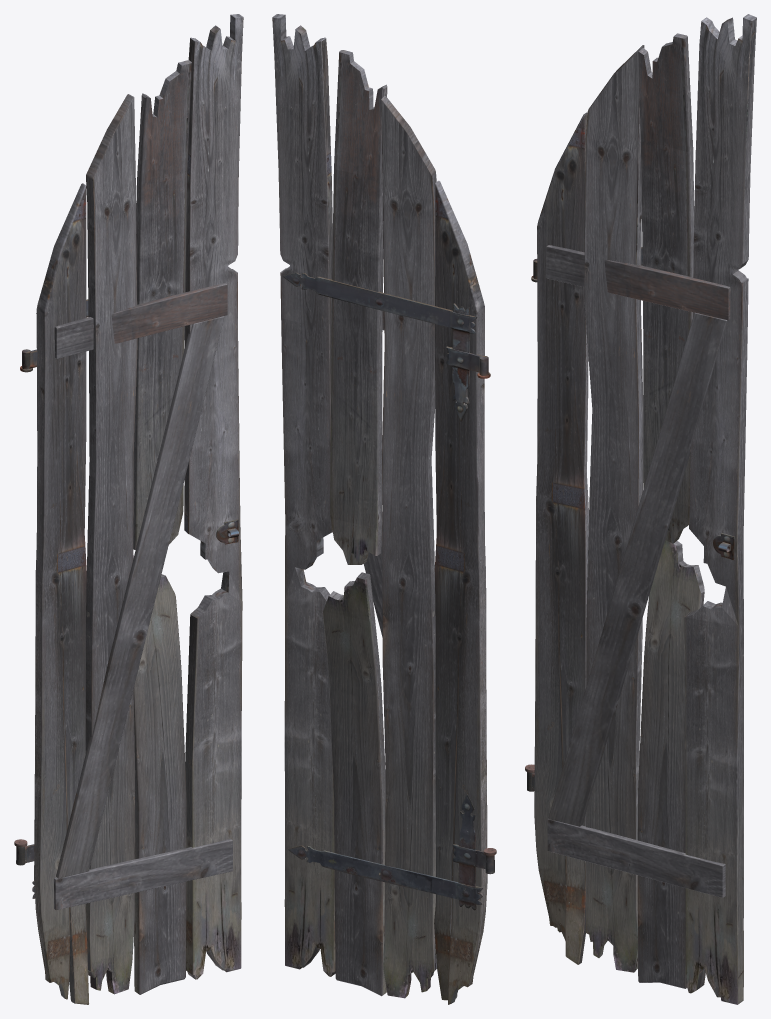
File: SM_Door_02_03.fbx
3 renders of one model, left to right at view 1: azimuth 30°, elevation 25°; view 2: azimuth 150°, elevation 25°; view 3: azimuth 330°, elevation 25°, orthographic. The views are drawn at different scales.
Parts seen in each view (by area): view 1: sm_Door_02_03_LOD0; view 2: sm_Door_02_03_LOD0; view 3: sm_Door_02_03_LOD0.
Boxes of the visible parts, bbox=[...] form: sm_Door_02_03_LOD0: bbox=[14, 14, 243, 1004]; sm_Door_02_03_LOD0: bbox=[272, 14, 496, 1004]; sm_Door_02_03_LOD0: bbox=[525, 14, 756, 1004].
Size of the model in its own units: 16.15 by 72.95 by 297.
